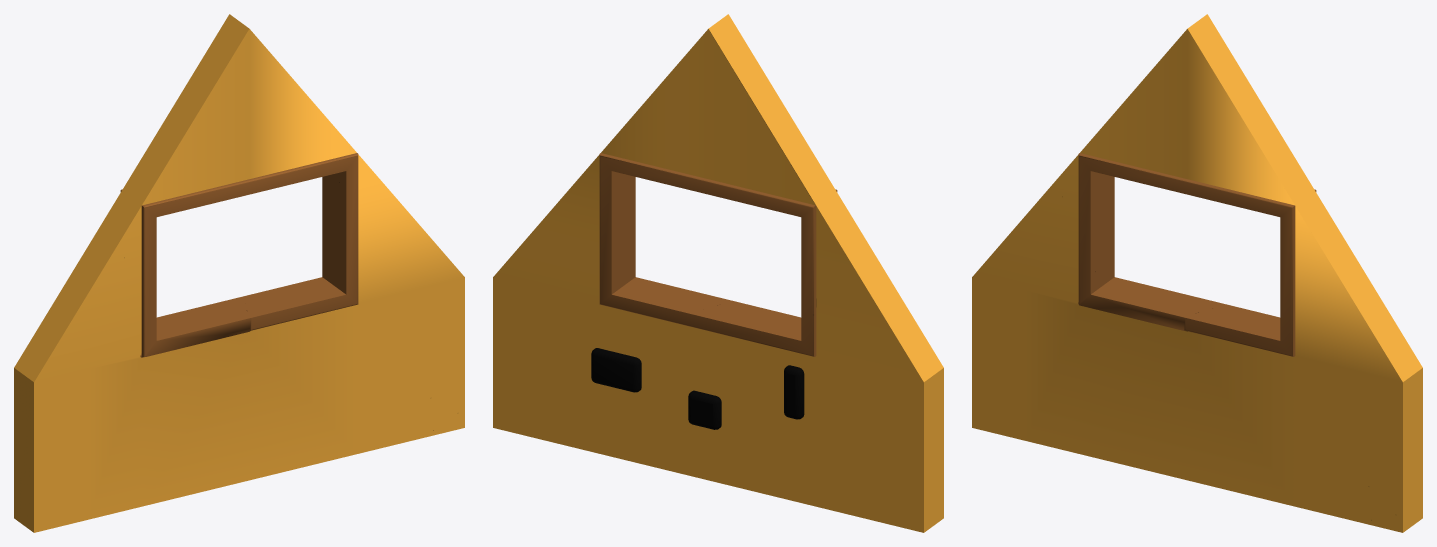
File: Wall Up 2.fbx
3 renders of one model, left to right at view 1: azimuth 30°, elevation 25°; view 2: azimuth 150°, elevation 25°; view 3: azimuth 330°, elevation 25°, orthographic.
Visible parts, largest first — view 1: Wall Up 2; view 2: Wall Up 2; view 3: Wall Up 2.
Part boxes in pixels (x1,y1,x2,y2): Wall Up 2: (14, 14, 464, 532); Wall Up 2: (493, 14, 943, 532); Wall Up 2: (972, 14, 1422, 532).
Bounding box in the file's own units: 249 × 249 × 26.
Materials: 1 (1 with a texture image).
